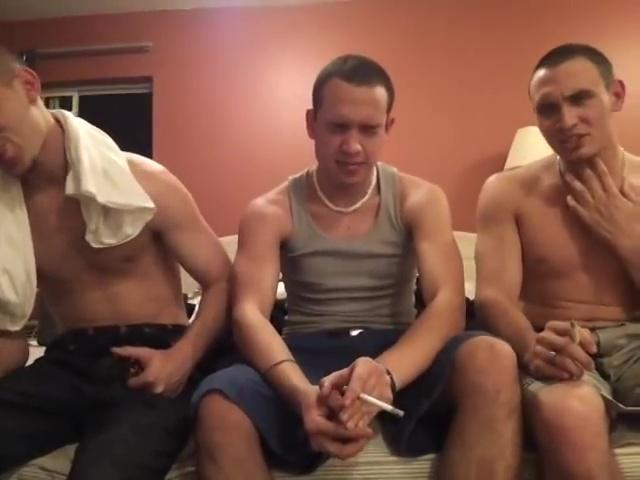cigarette: (355, 386, 407, 418), (567, 317, 587, 348)
